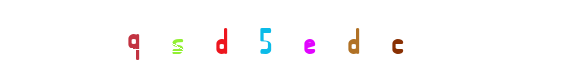5: (236, 0, 316, 80)
C: (332, 0, 412, 80)
D: (225, 0, 305, 80), (269, 0, 349, 80)
E: (242, 0, 322, 80)
Q: (137, 0, 217, 80)
S: (139, 0, 219, 80)
